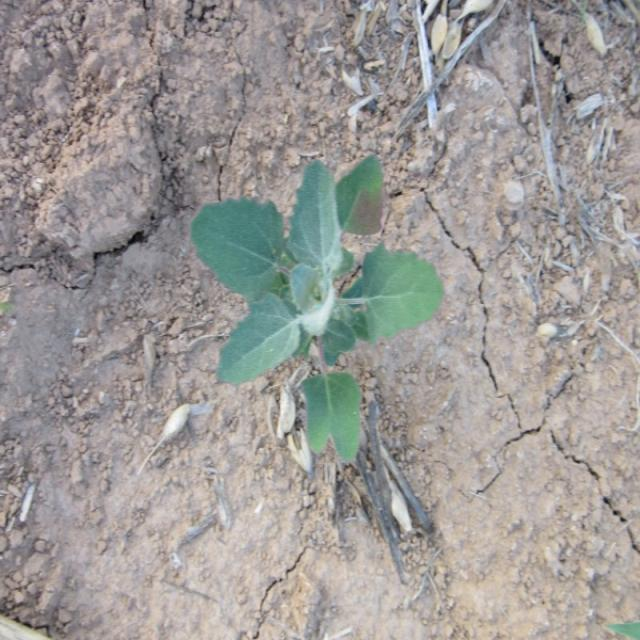ca: (192, 154, 444, 468)
